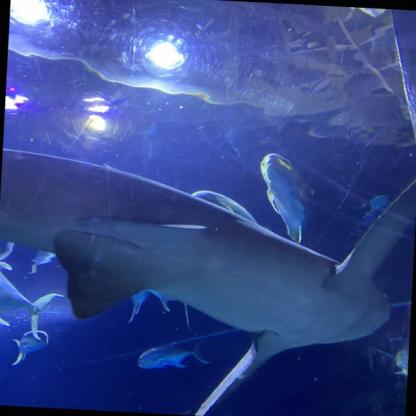fish: (0, 260, 68, 344), (256, 152, 316, 244), (137, 334, 212, 371), (11, 329, 49, 367)
shark: (0, 146, 415, 415)
